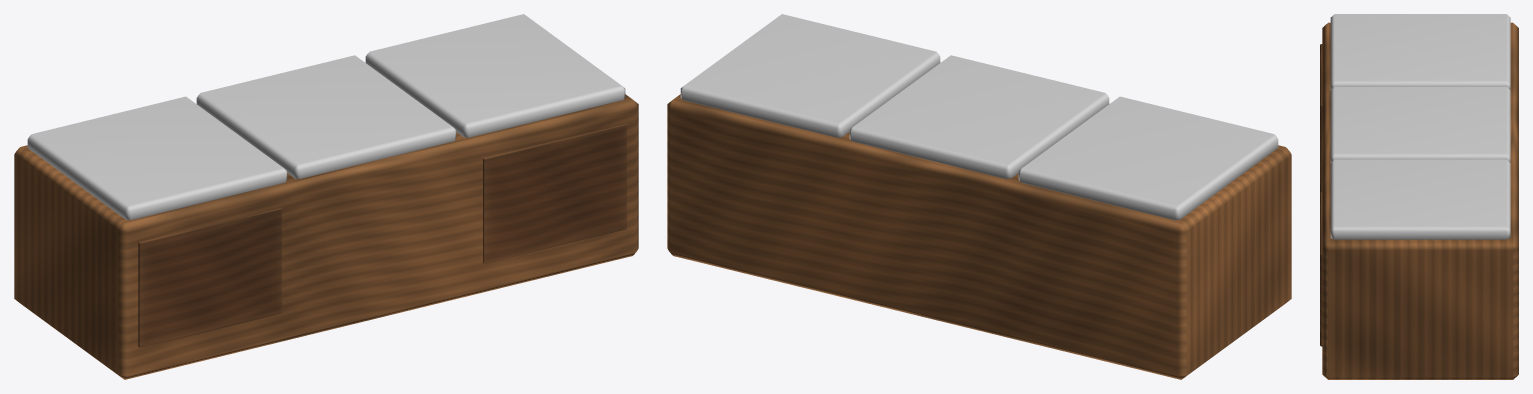
Rendered from Furn_Life_WindowSeat.fbx.
3 views of the same model, side by side, from view 1: azimuth 30°, elevation 25°; view 2: azimuth 150°, elevation 25°; view 3: azimuth 270°, elevation 25° (orthographic). The views are drawn at different scales.
Visible parts, largest first — view 1: Furn_Life_WindowSeat; view 2: Furn_Life_WindowSeat; view 3: Furn_Life_WindowSeat.
Part boxes in pixels (bbox=[...]): Furn_Life_WindowSeat: bbox=[14, 14, 638, 379]; Furn_Life_WindowSeat: bbox=[667, 14, 1291, 379]; Furn_Life_WindowSeat: bbox=[1320, 14, 1518, 379].
Size of the model in its own units: 1.6 by 0.5 by 0.6.
Materials: 3 (2 with a texture image).
